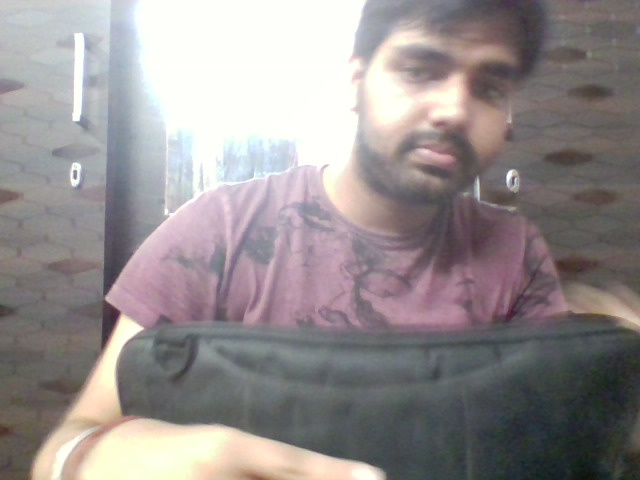p: (133, 412, 388, 480)
